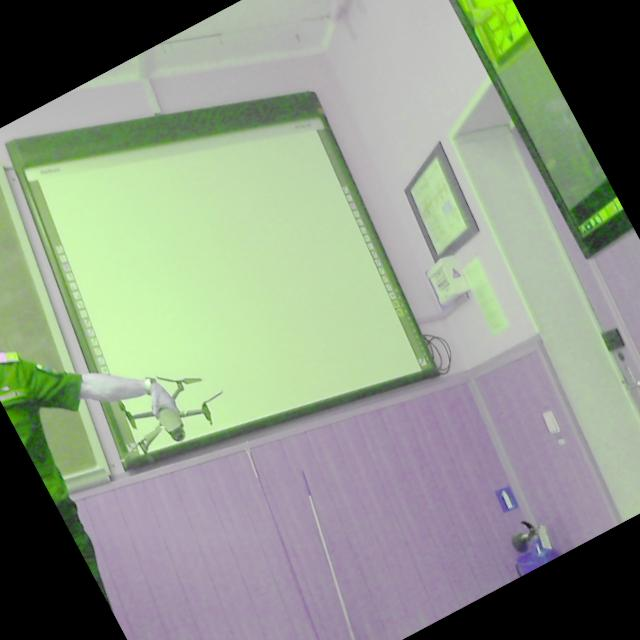drone: (94, 350, 247, 486)
